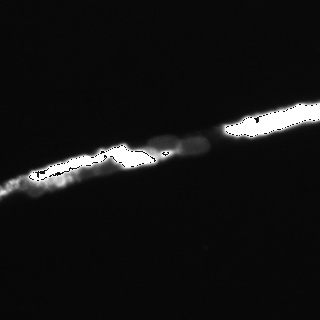embryo: (174, 136, 210, 155), (146, 135, 183, 151), (94, 157, 123, 176), (22, 178, 49, 197), (75, 160, 101, 177)
